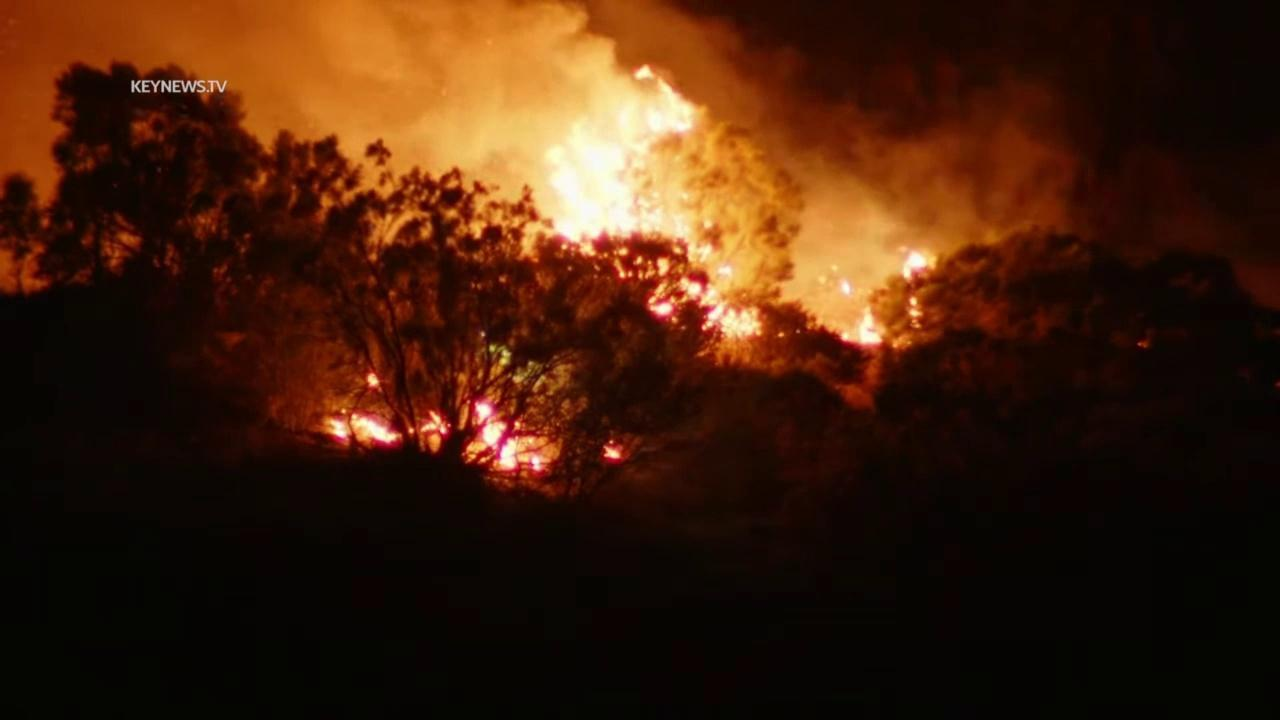fire: (537, 60, 769, 341), (470, 401, 546, 476), (340, 405, 407, 449), (898, 245, 931, 331), (835, 304, 889, 350), (418, 409, 454, 439), (601, 435, 629, 461), (362, 367, 388, 394), (325, 420, 352, 443), (841, 277, 856, 296)
smoke: (0, 0, 1280, 333)
